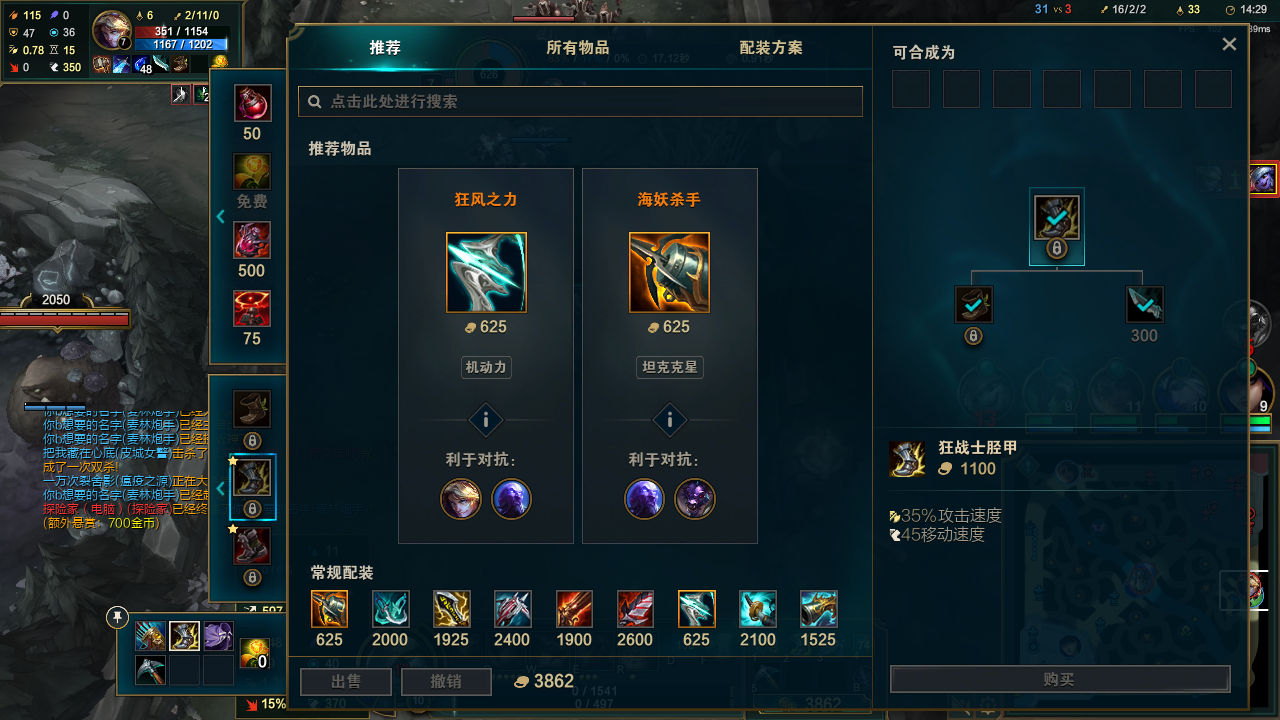TJJM: (331, 25, 433, 82)
